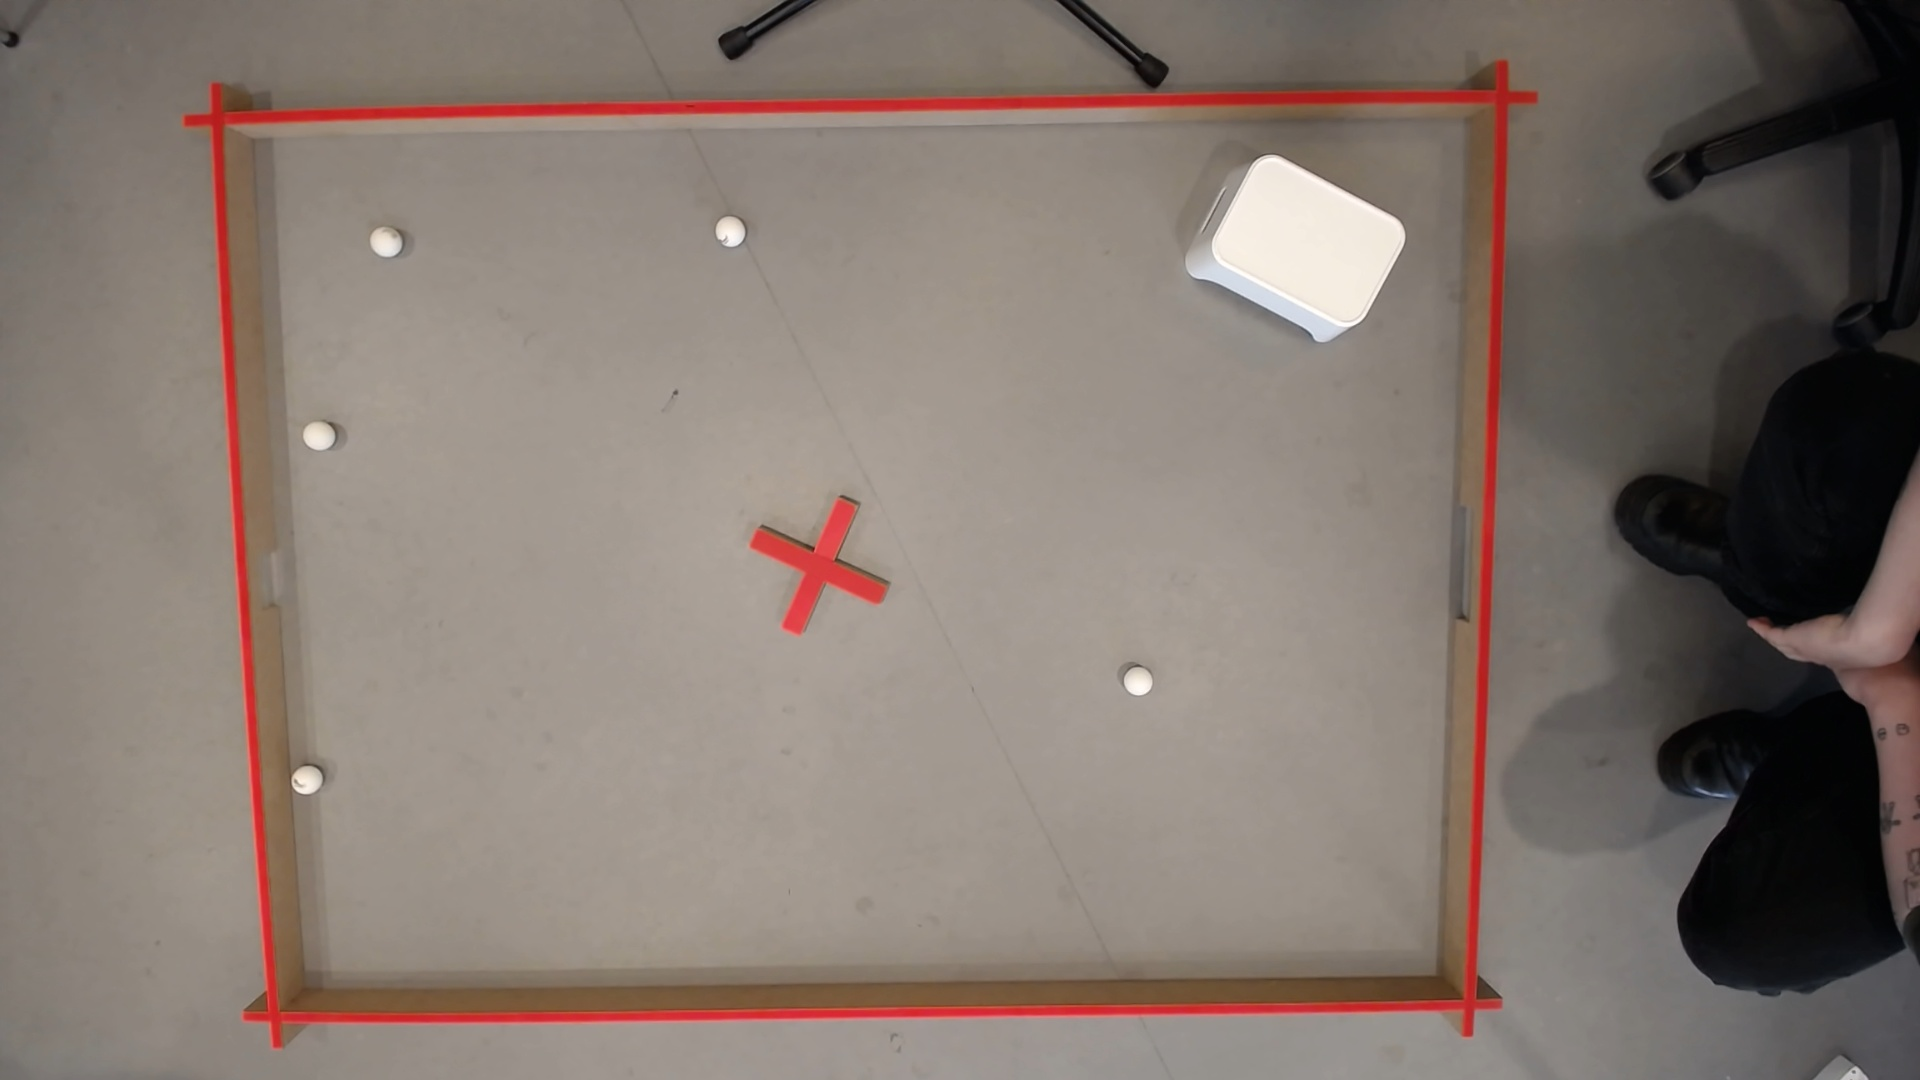balls: (1187, 144, 1412, 356), (298, 418, 336, 454), (364, 225, 402, 261)
car: (1124, 670, 1153, 695)
